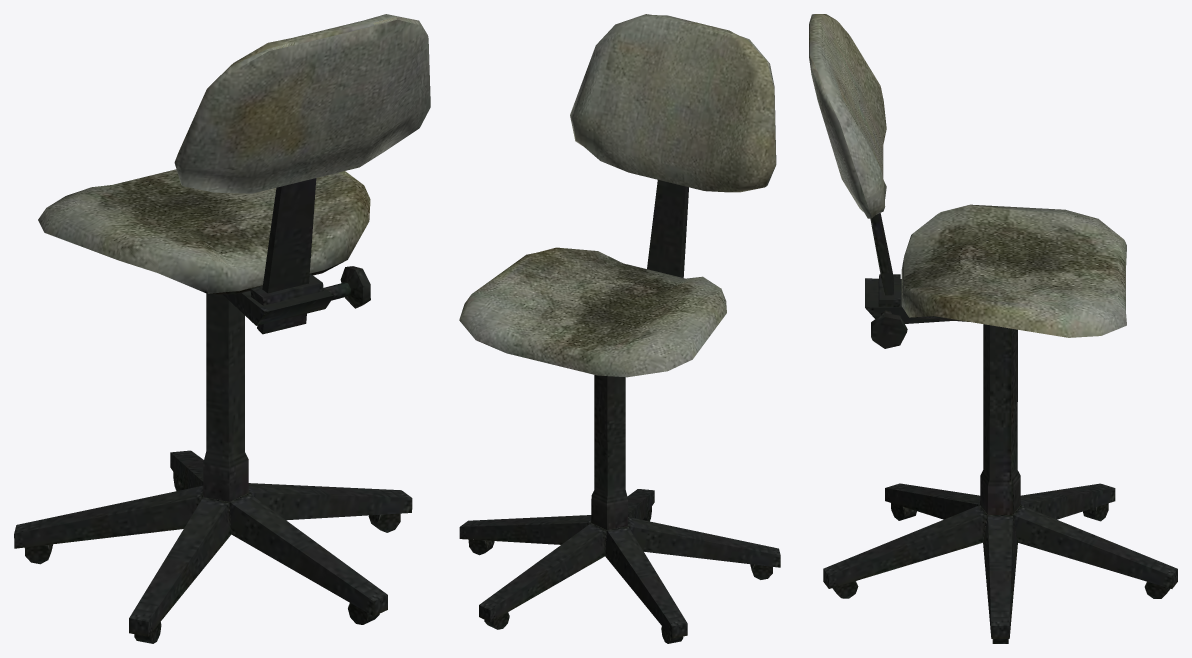
File: chair_office01a.glb
The picture shows the model from 3 angles, left to right: view 1: azimuth 30°, elevation 25°; view 2: azimuth 150°, elevation 25°; view 3: azimuth 270°, elevation 25°; orthographic projection. The views are drawn at different scales.
Visible parts, largest first — view 1: 0_chair_office01a; view 2: 0_chair_office01a; view 3: 0_chair_office01a.
Boxes of the visible parts, <box> form: 0_chair_office01a: <box>14,14,430,643</box>; 0_chair_office01a: <box>459,14,780,643</box>; 0_chair_office01a: <box>809,14,1177,643</box>.
Size of the model in its own units: 0.6134 by 1.08 by 0.6705.
Materials: 1 (1 with a texture image).
